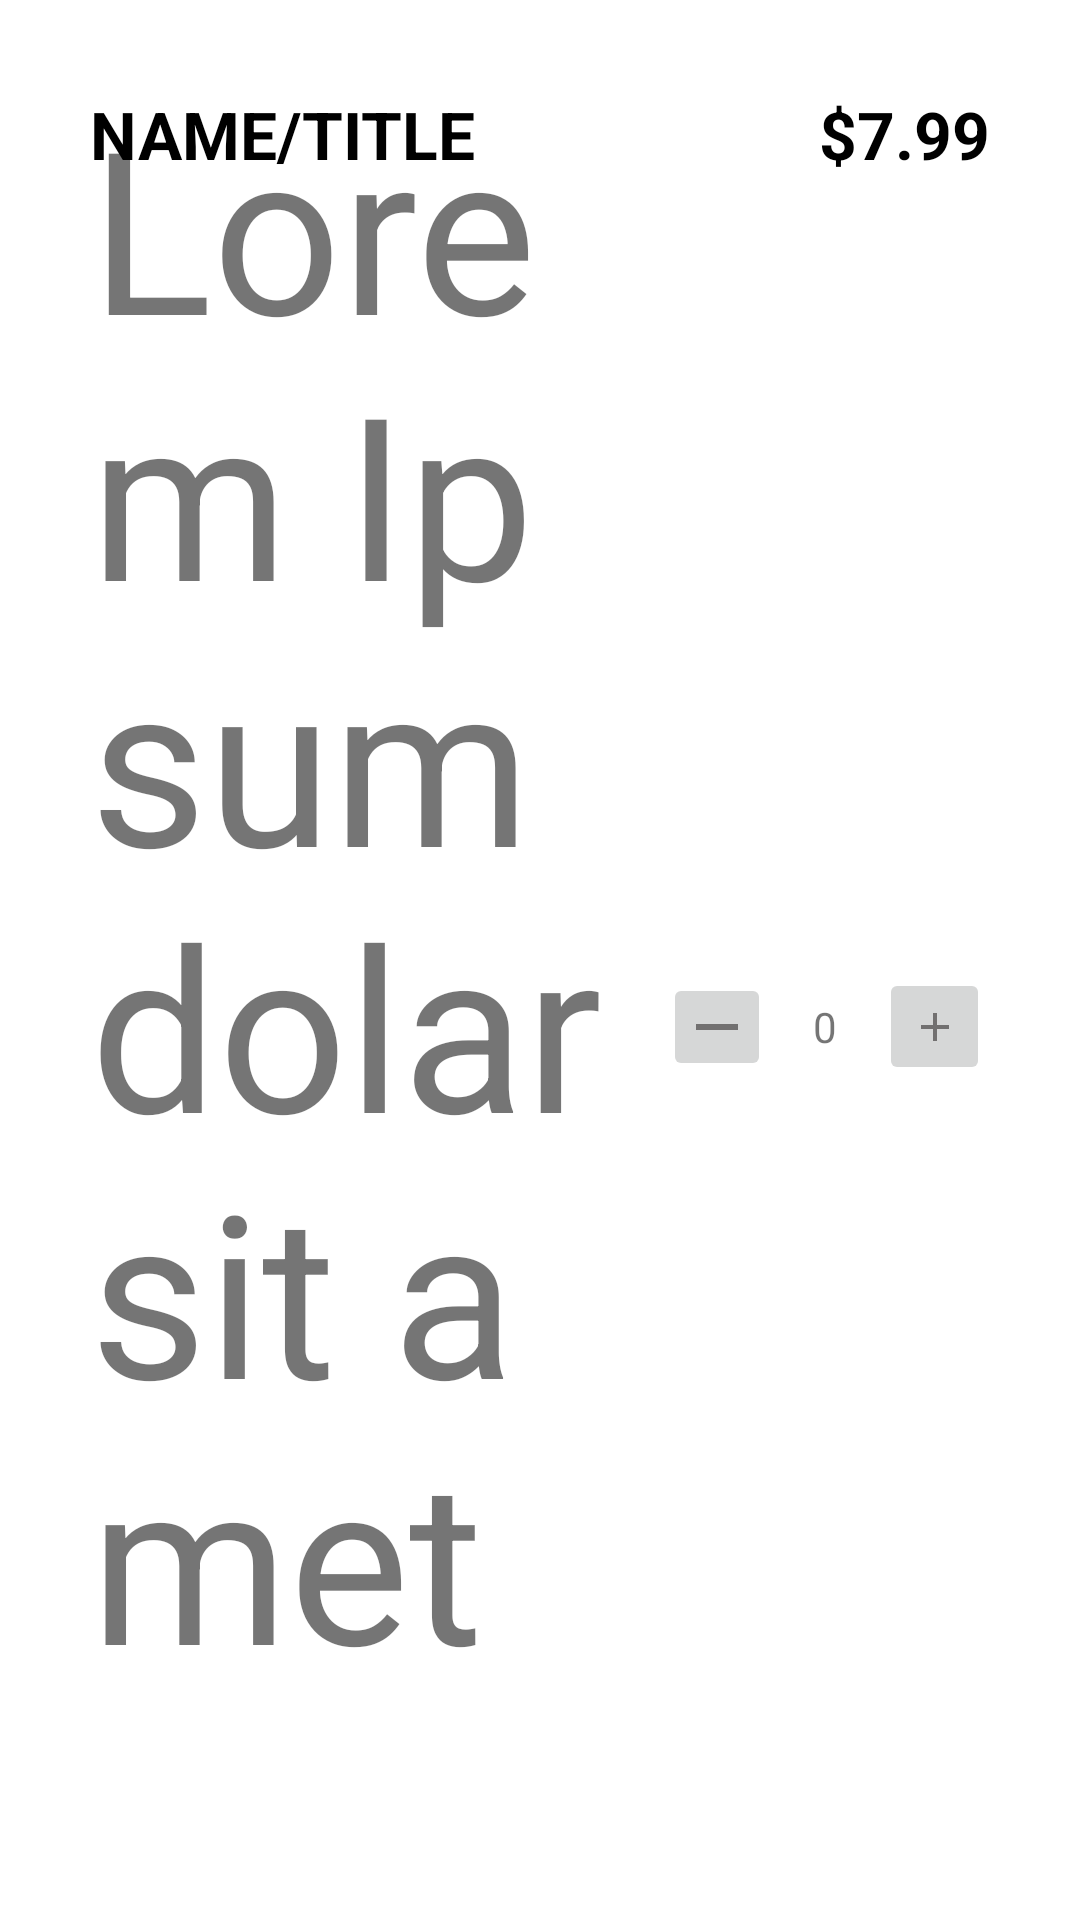

Screen size 1080x1920. Icon name, then its center in pixels as point (x, y):
add: point (934, 1026)
remove: point (717, 1027)
